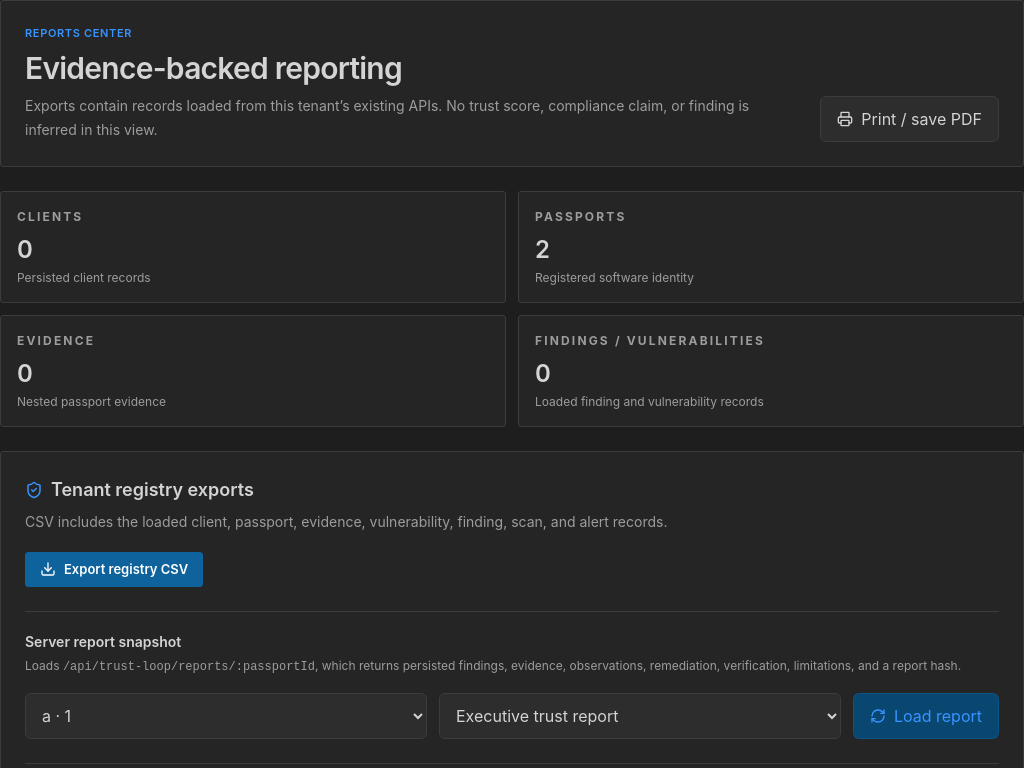
Test: discards an old report response after switching Launch Tickets
Click the button "Load report" at (926, 716), box [853, 693, 999, 739]
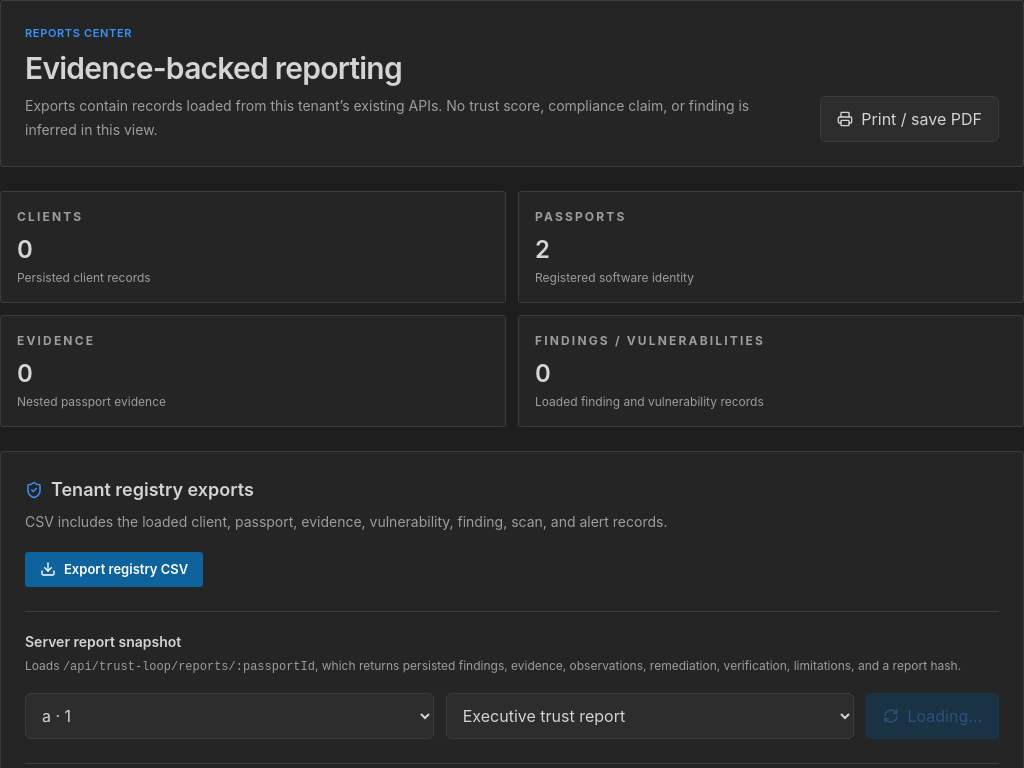
Select "b · 1" in the 1st dropdown at (229, 716), box [25, 693, 434, 739]
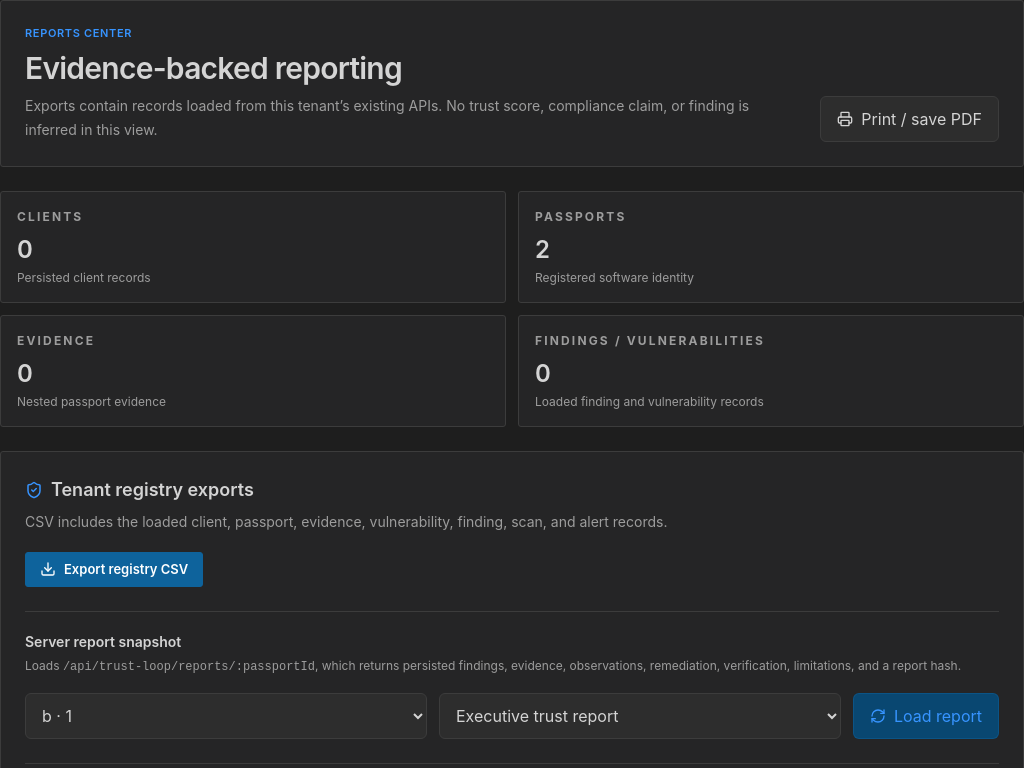
Expected: the button "Load report" is enabled, [853, 693, 999, 739]
